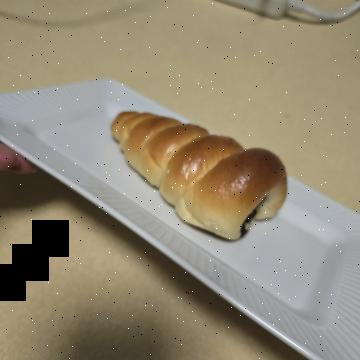cream horn: (103, 66, 262, 263)
